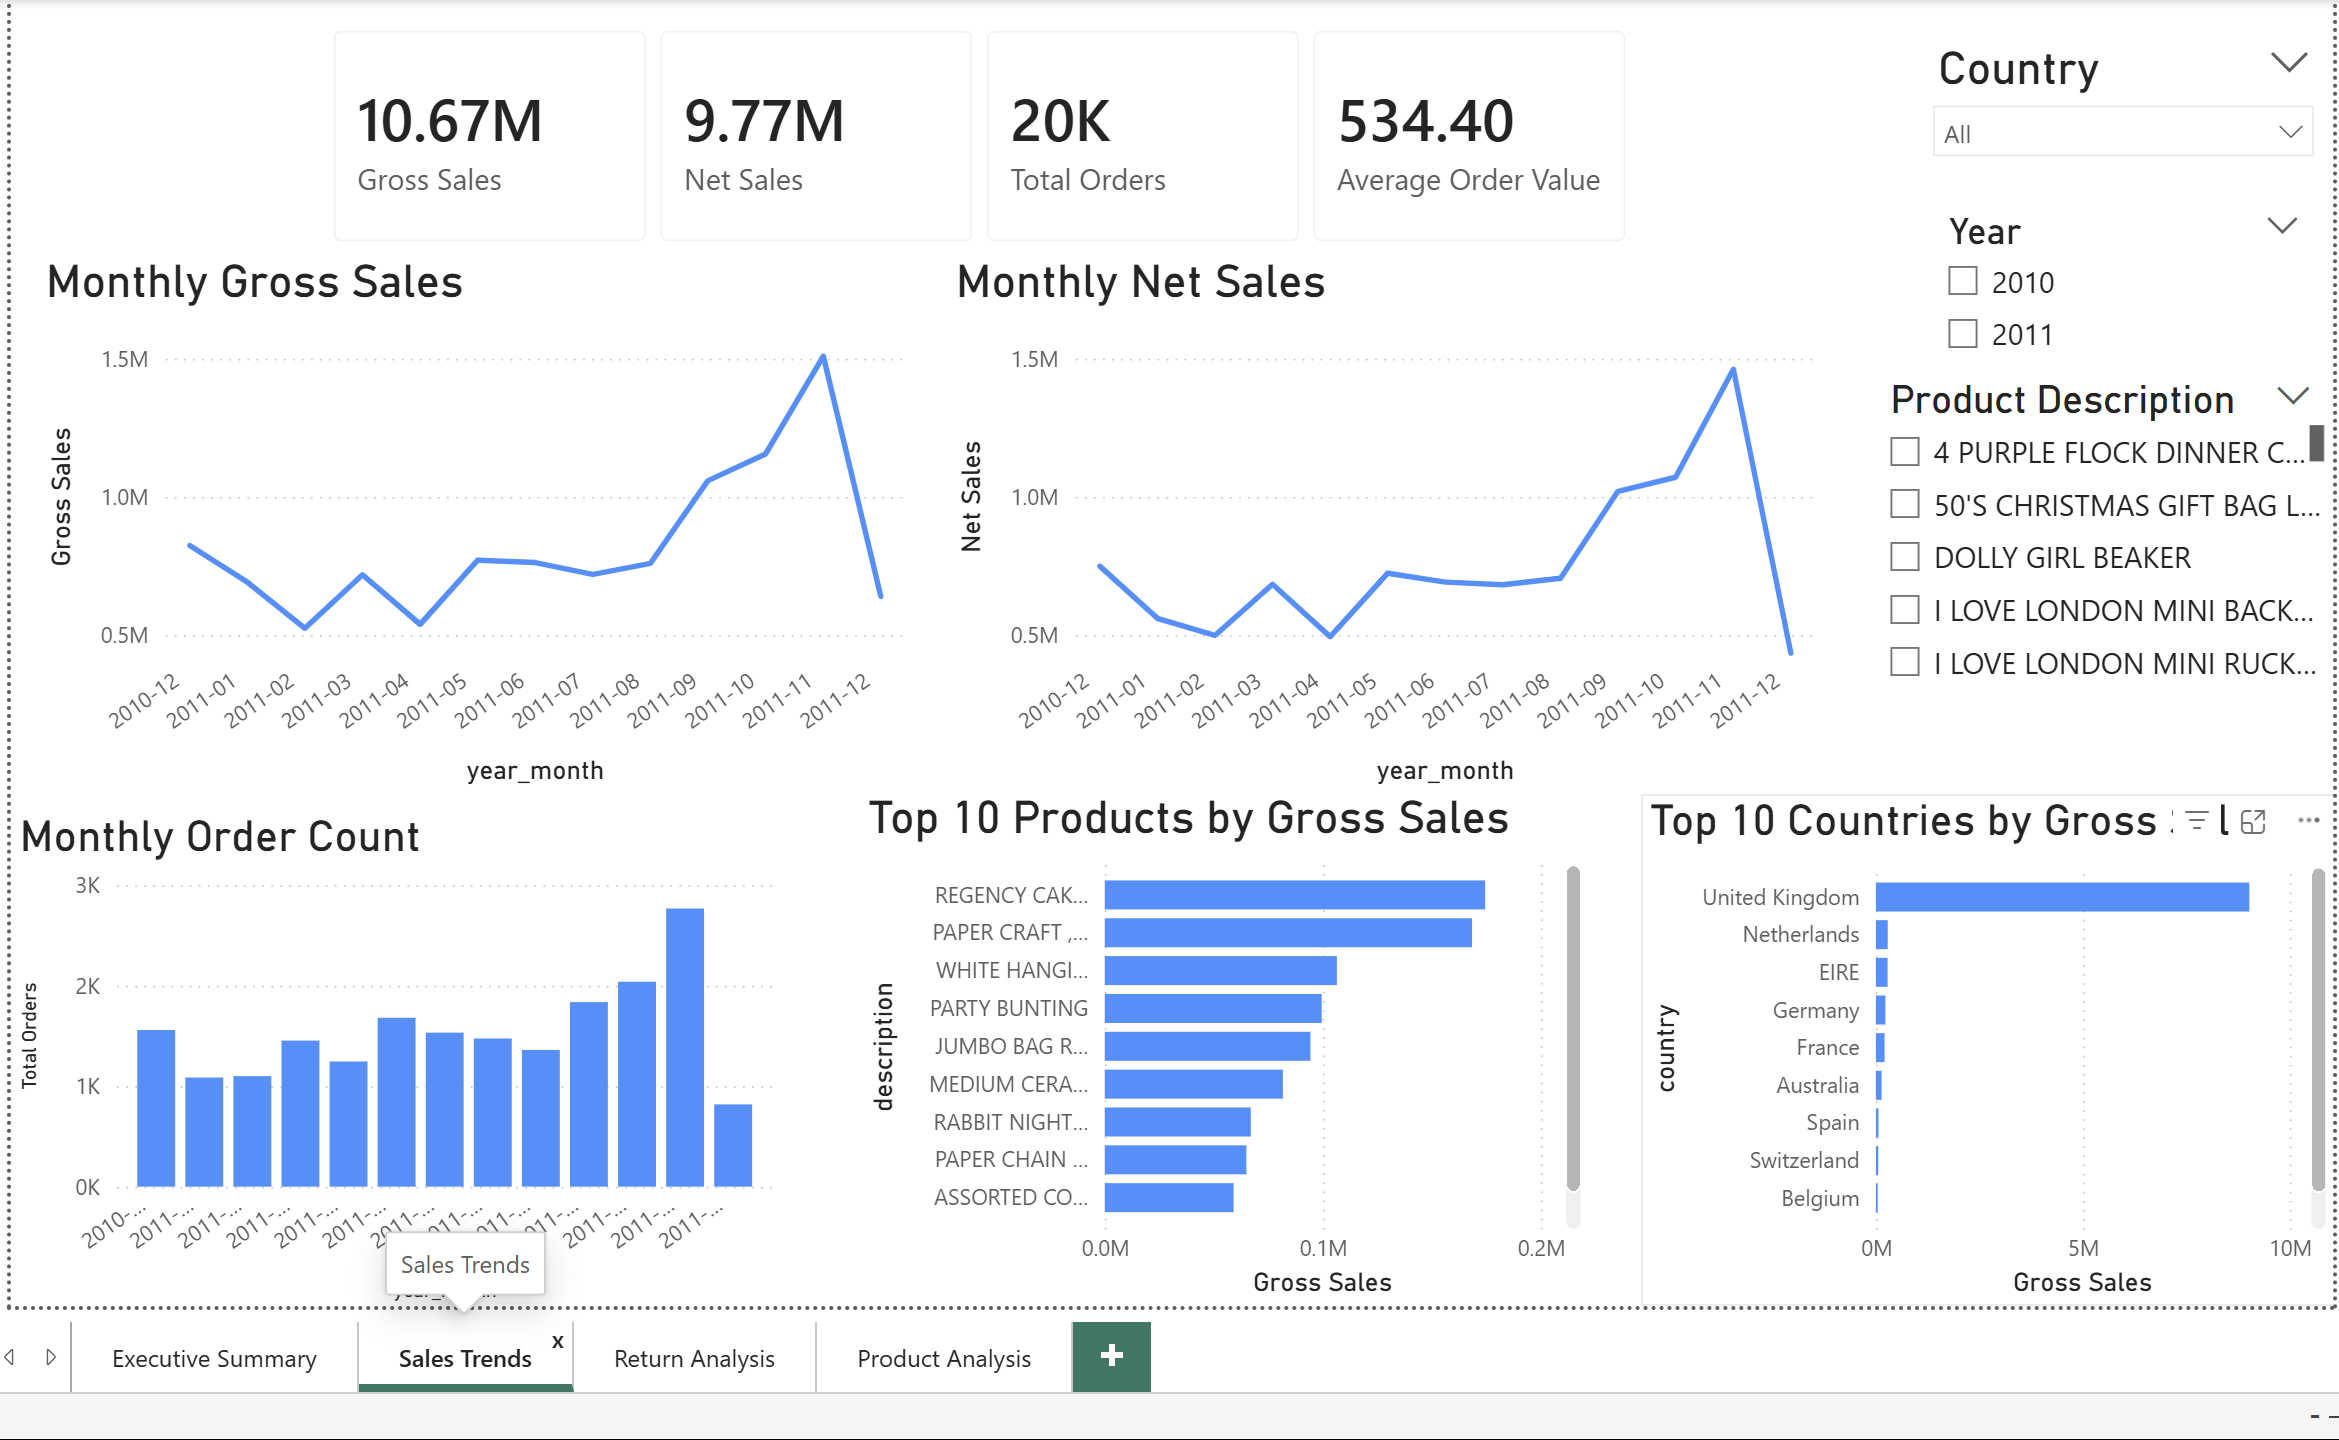

The page's visual inventory and layout, read from the dashboard file:
{"tool":"powerbi","page":{"name":"Sales Trends","canvas":[1280,720],"ordinal":1},"visuals":[{"type":"cardVisual","fields":{"Data":["public v_fact_transactions_model_v2.Gross Sales","public v_fact_transactions_model_v2.Net Sales","public v_fact_transactions_model_v2.Total Orders","public v_fact_transactions_model_v2.Average Order Value"]},"box":[161.4,0,748.6,150],"z":0},{"type":"lineChart","title":"Monthly Gross Sales","fields":{"Category":["public dim_date.year_month"],"Y":["public v_fact_transactions_model_v2.Gross Sales"]},"box":[14.3,140,482.9,297.7],"z":1000},{"type":"lineChart","title":"Monthly Net Sales","fields":{"Category":["public dim_date.year_month"],"Y":["public v_fact_transactions_model_v2.Net Sales"]},"box":[516,140,482.9,297.7],"z":2000},{"type":"columnChart","title":"Monthly Order Count","fields":{"Category":["public dim_date.year_month"],"Y":["public v_fact_transactions_model_v2.Total Orders"]},"box":[0,446.6,424.5,275.7],"z":3000},{"type":"clusteredBarChart","title":"Top 10 Products by Gross Sales","fields":{"Category":["public dim_product_v2.description"],"Y":["public v_fact_transactions_model_v2.Gross Sales"]},"box":[467.1,435.7,402.9,284.3],"z":4000},{"type":"clusteredBarChart","title":"Top 10 Countries by Gross Sales","fields":{"Category":["public dim_country.country"],"Y":["public v_fact_transactions_model_v2.Gross Sales"]},"box":[898.6,437.7,382.6,282.3],"z":5000},{"type":"slicer","fields":{"Values":["public dim_date.year"]},"box":[1055.7,110,218.6,92.9],"z":6000},{"type":"slicer","fields":{"Values":["public dim_country.country"]},"box":[1050,17.1,230,92.9],"z":7000},{"type":"slicer","fields":{"Values":["public v_fact_transactions_model_v2.description"]},"box":[1023.2,202.9,256.9,176.4],"z":8000}]}

Visuals, with their boxes on the page's 1280x720 design canvas (x1, y1, x2, y2). These are canvas units, not pixel positions in the 2339x1440 screenshot, which may show the page scaled, cropped or inside an application window:
cardVisual - public v_fact_transactions_model_v2.Gross Sales x public v_fact_transactions_model_v2.Net Sales: select_region(161, 0, 910, 150)
"Monthly Gross Sales" lineChart: select_region(14, 140, 497, 438)
"Monthly Net Sales" lineChart: select_region(516, 140, 999, 438)
"Monthly Order Count" columnChart: select_region(0, 447, 424, 722)
"Top 10 Products by Gross Sales" clusteredBarChart: select_region(467, 436, 870, 720)
"Top 10 Countries by Gross Sales" clusteredBarChart: select_region(899, 438, 1281, 720)
slicer - public dim_date.year: select_region(1056, 110, 1274, 203)
slicer - public dim_country.country: select_region(1050, 17, 1280, 110)
slicer - public v_fact_transactions_model_v2.description: select_region(1023, 203, 1280, 379)
